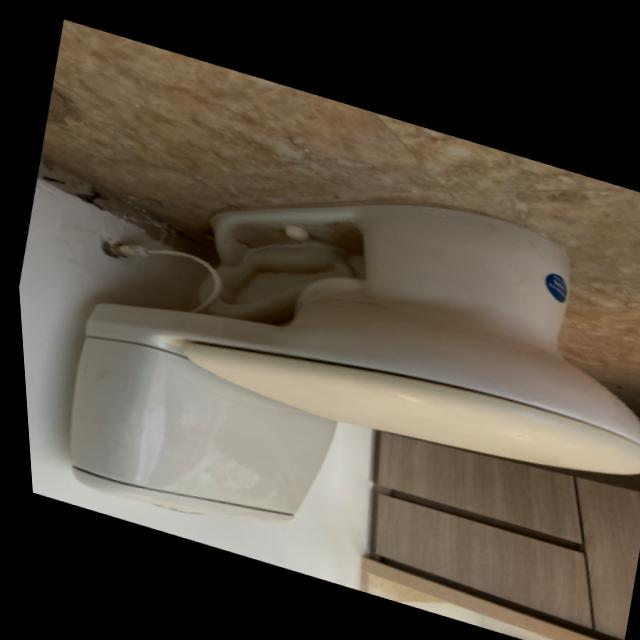toilet: (29, 97, 640, 640)
